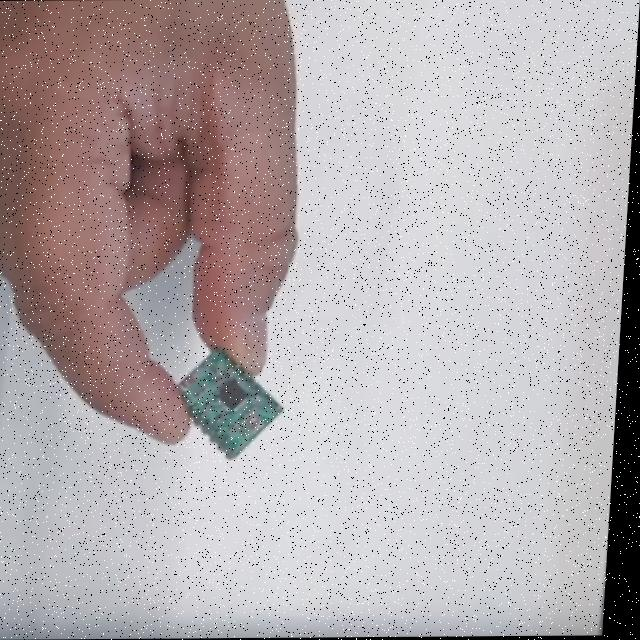Chip: (173, 342, 290, 459)
